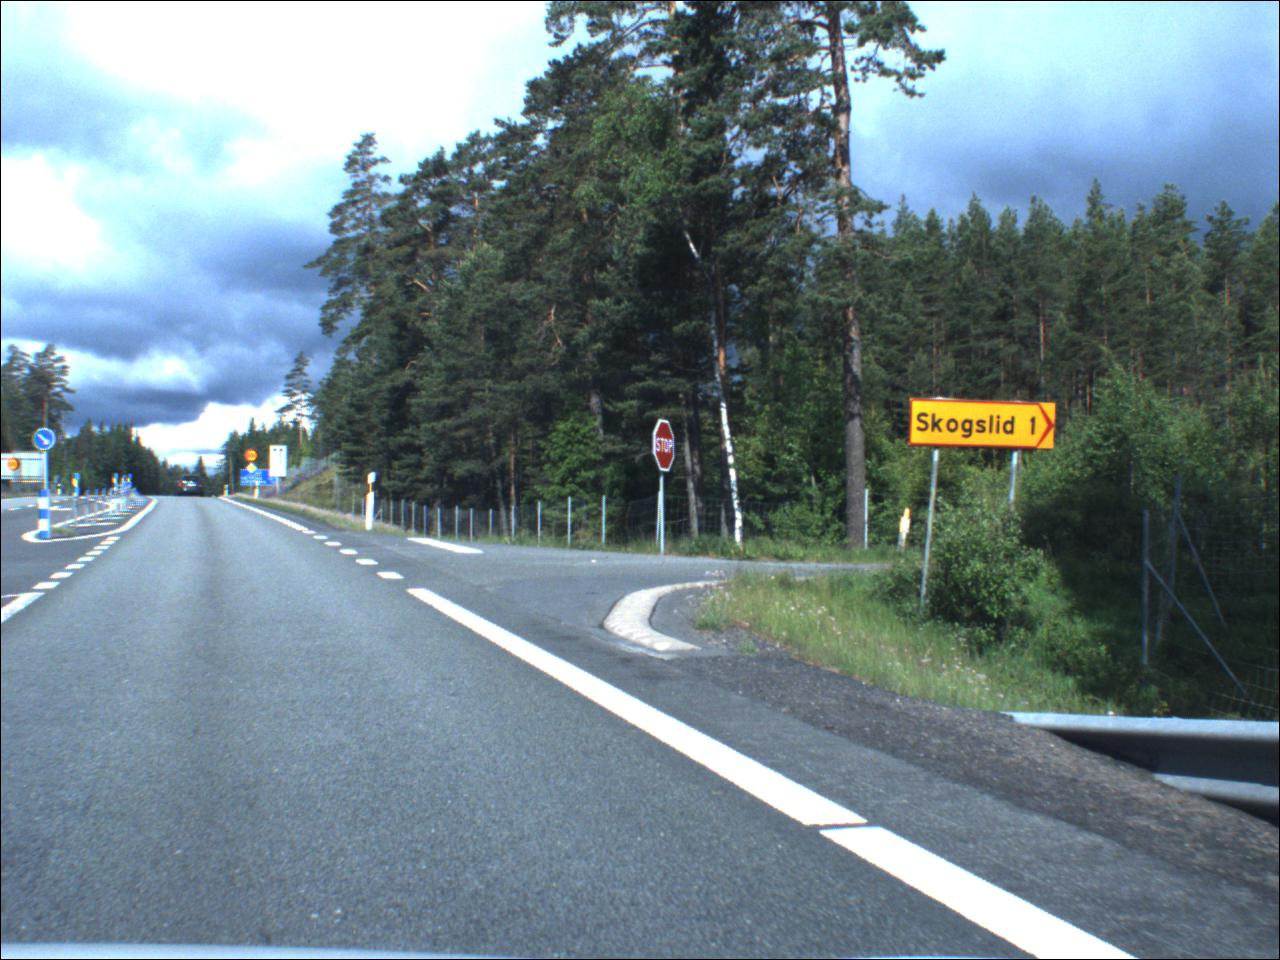100_SIGN: (246, 449, 262, 464), (9, 459, 23, 473)
PASS_RIGHT_SIDE: (34, 430, 58, 453)
PRIORITY_ROAD: (248, 464, 260, 476)
STOP: (655, 419, 682, 476)
